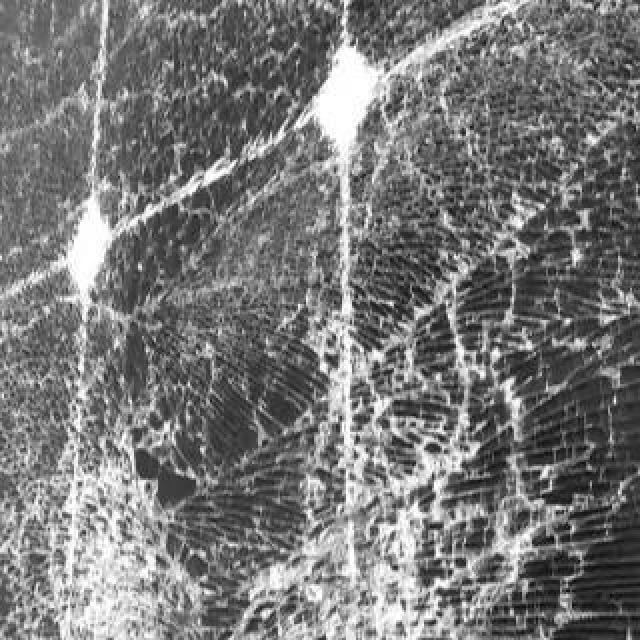Physical-damage: (18, 300, 590, 640)
